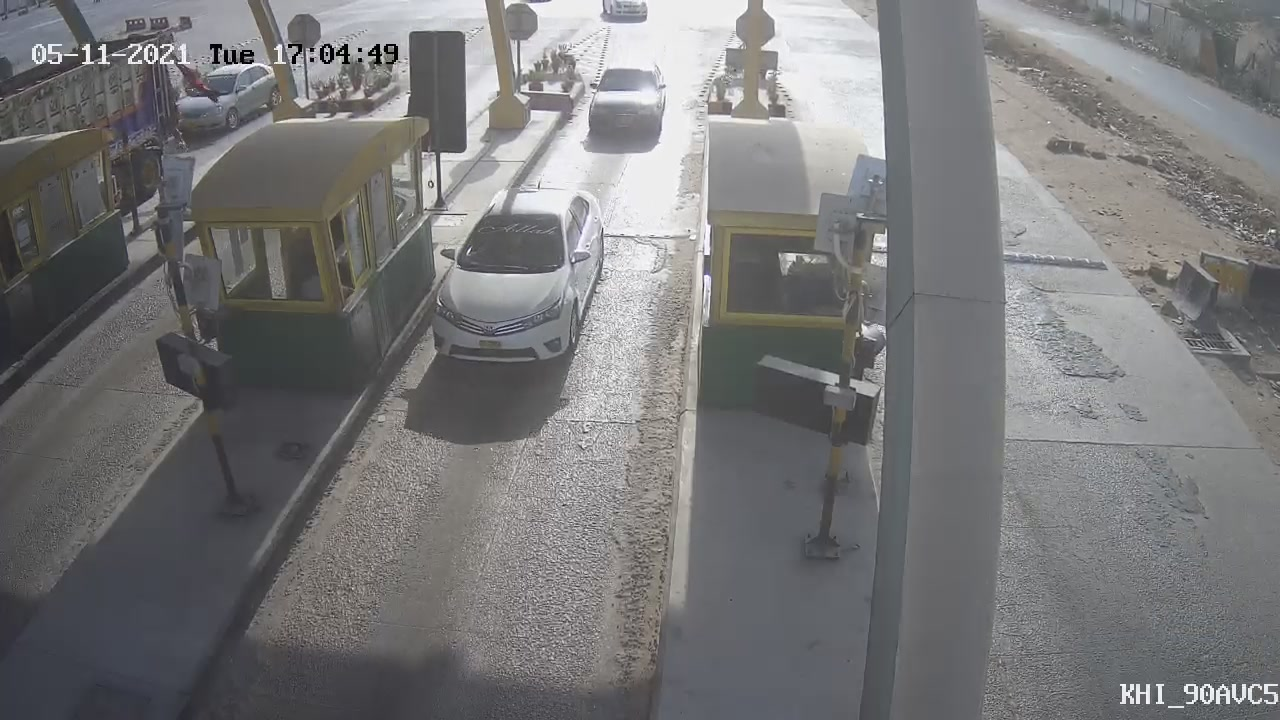F1: (420, 166, 610, 385), (577, 54, 673, 151)
